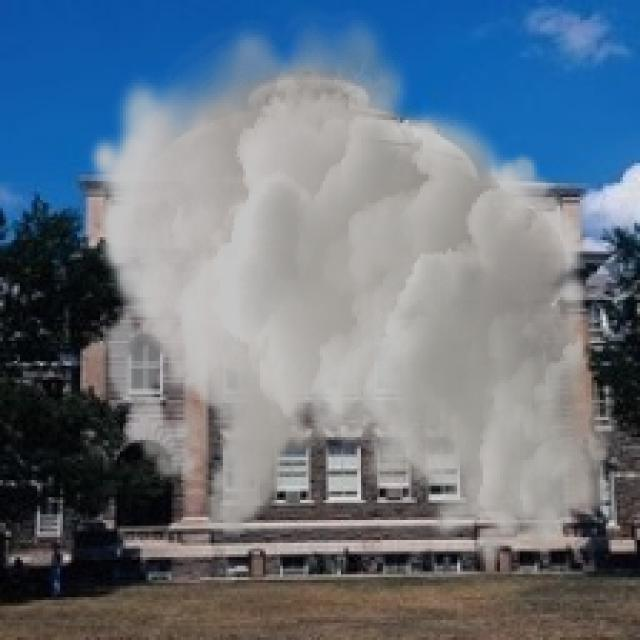Smoke: (86, 6, 614, 574)
